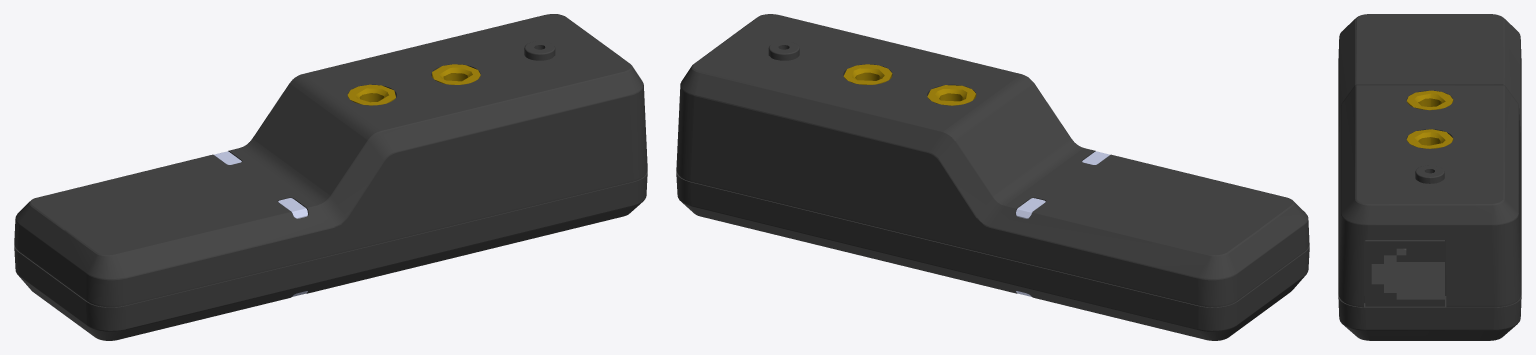
3 renders of one model, left to right at view 1: azimuth 30°, elevation 25°; view 2: azimuth 150°, elevation 25°; view 3: azimuth 270°, elevation 25°, orthographic. The views are drawn at different scales.
Visible parts, largest first — view 1: 276-4831-101 Rev3 - Overmold, 276-4831-102 Rev3, 276-4831-008 Rev8 (×2), 276-4831-104 Rev5; view 2: 276-4831-101 Rev3 - Overmold, 276-4831-102 Rev3, 276-4831-008 Rev8 (×2), 276-4831-104 Rev5; view 3: 276-4831-101 Rev3 - Overmold, 276-4831-102 Rev3, 276-4810-907 Rev1, 276-4831-008 Rev8 (×2).
Part boxes in pixels (x1,y1,x2,y2): 276-4831-101 Rev3 - Overmold: (14, 14, 647, 307); 276-4831-102 Rev3: (14, 171, 647, 340); 276-4831-008 Rev8 (×2): (347, 64, 480, 105); 276-4831-104 Rev5: (213, 151, 307, 218); 276-4831-101 Rev3 - Overmold: (676, 14, 1309, 307); 276-4831-102 Rev3: (676, 171, 1309, 340); 276-4831-008 Rev8 (×2): (843, 64, 976, 105); 276-4831-104 Rev5: (1016, 151, 1110, 218); 276-4831-101 Rev3 - Overmold: (1338, 14, 1521, 307); 276-4831-102 Rev3: (1338, 248, 1521, 340); 276-4810-907 Rev1: (1364, 240, 1446, 306); 276-4831-008 Rev8 (×2): (1406, 90, 1453, 148).
Bounding box in the file's own units: 84.5 × 22 × 25.45.
